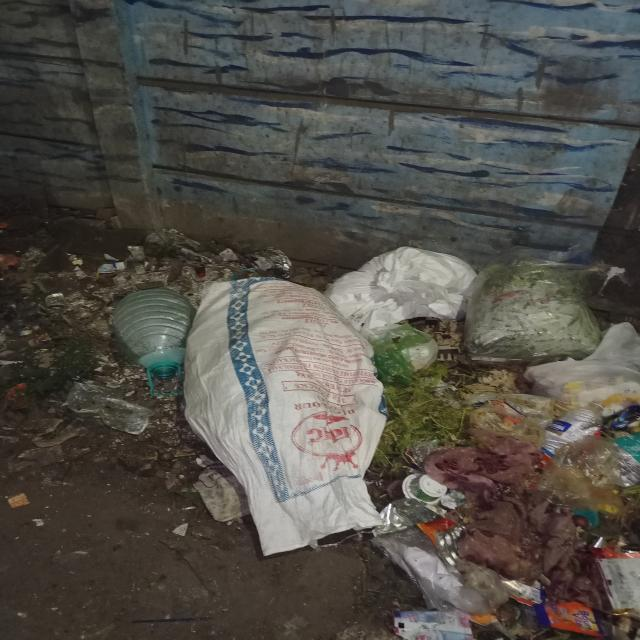garbage: (70, 252, 640, 640)
